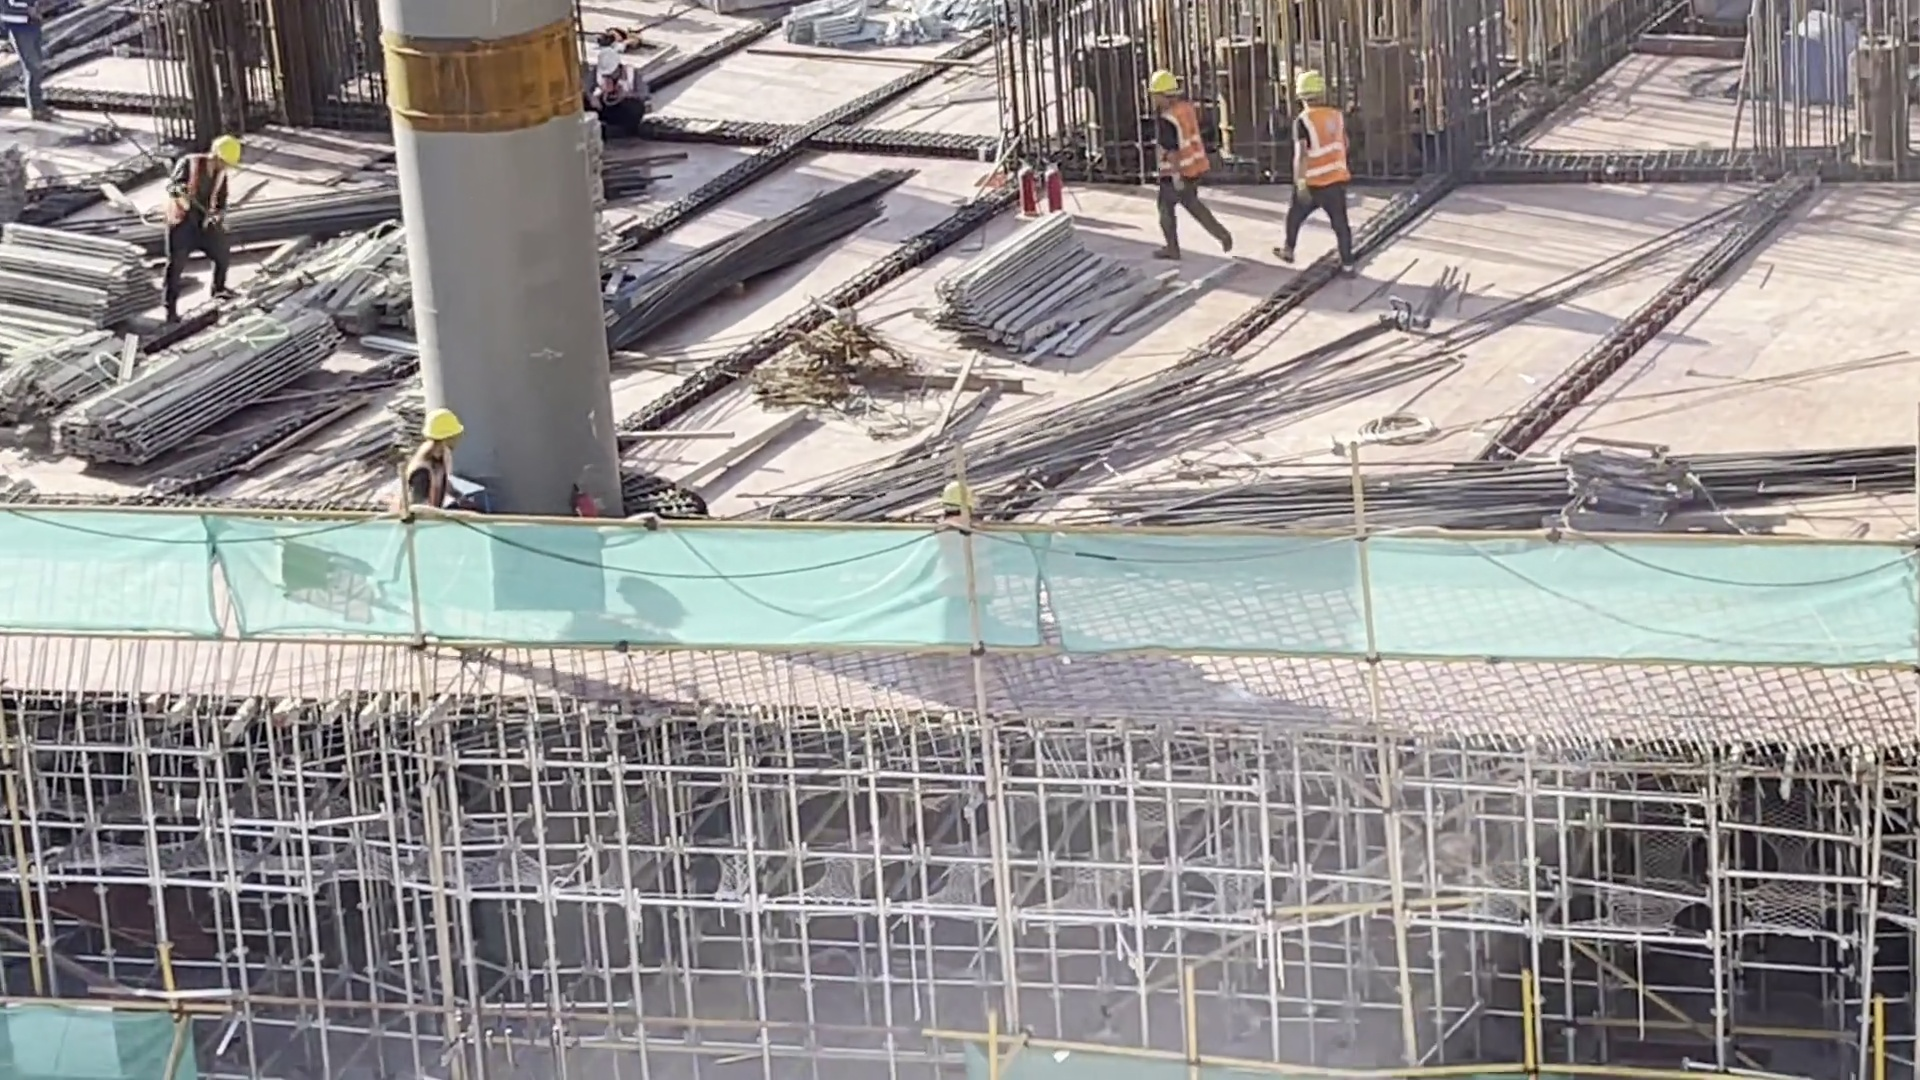helmet: (1134, 52, 1184, 102), (581, 42, 628, 90), (1297, 64, 1332, 105), (425, 408, 462, 438), (200, 135, 240, 160)
person: (1273, 58, 1362, 275), (1129, 72, 1230, 258), (160, 119, 245, 317), (387, 396, 485, 523), (580, 39, 654, 145)
vest: (162, 154, 234, 237), (1156, 100, 1211, 187), (1297, 101, 1343, 185), (406, 452, 458, 508)
wood: (71, 297, 329, 465), (938, 204, 1123, 375), (1, 202, 140, 328)
